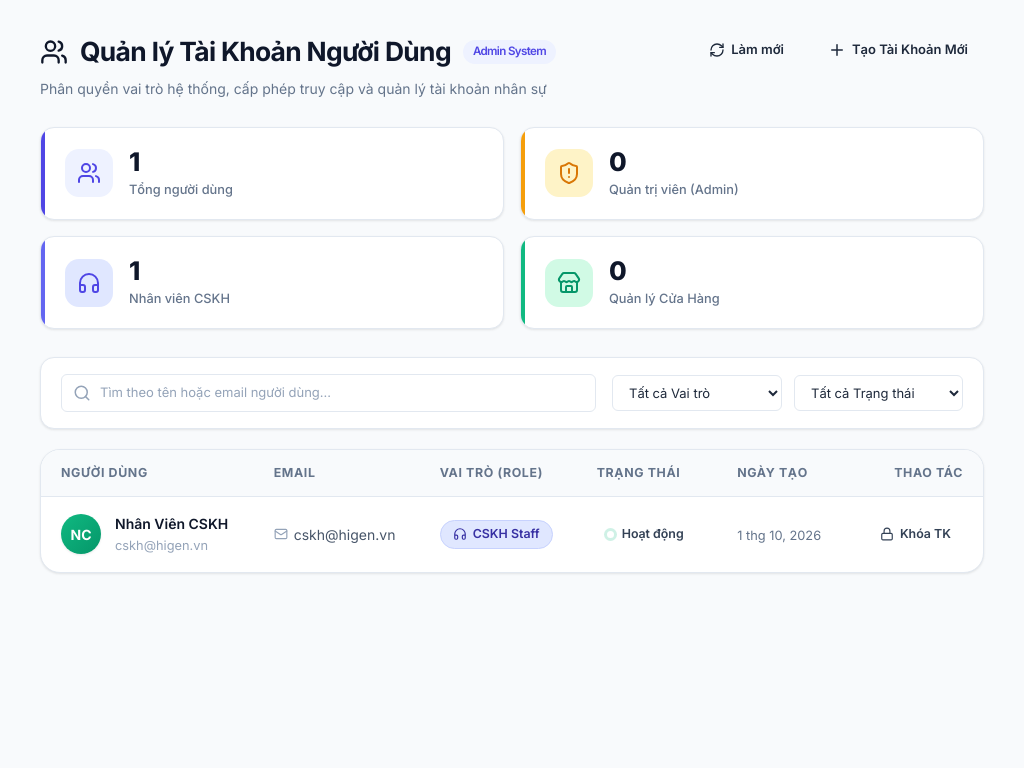
Test: Mục 1 (FE Security trên RAM) - Nhóm 1.4: Quản lý tài khoản Admin (UsersPage) › [TC-FE-SEC-11B] Tạo tài khoản nhân viên mới và Khóa tài khoản trên UsersPage
Expected: the text "Nhân Viên CSKH" is shown, [115,513,228,534]
# Act (Thực thi): Mở modal tạo mới, điền thông tin nhân viên và bấm Khóa TK đầu tiên
Click the button "Tạo Tài Khoản Mới": click(898, 50) [812,32,984,68]
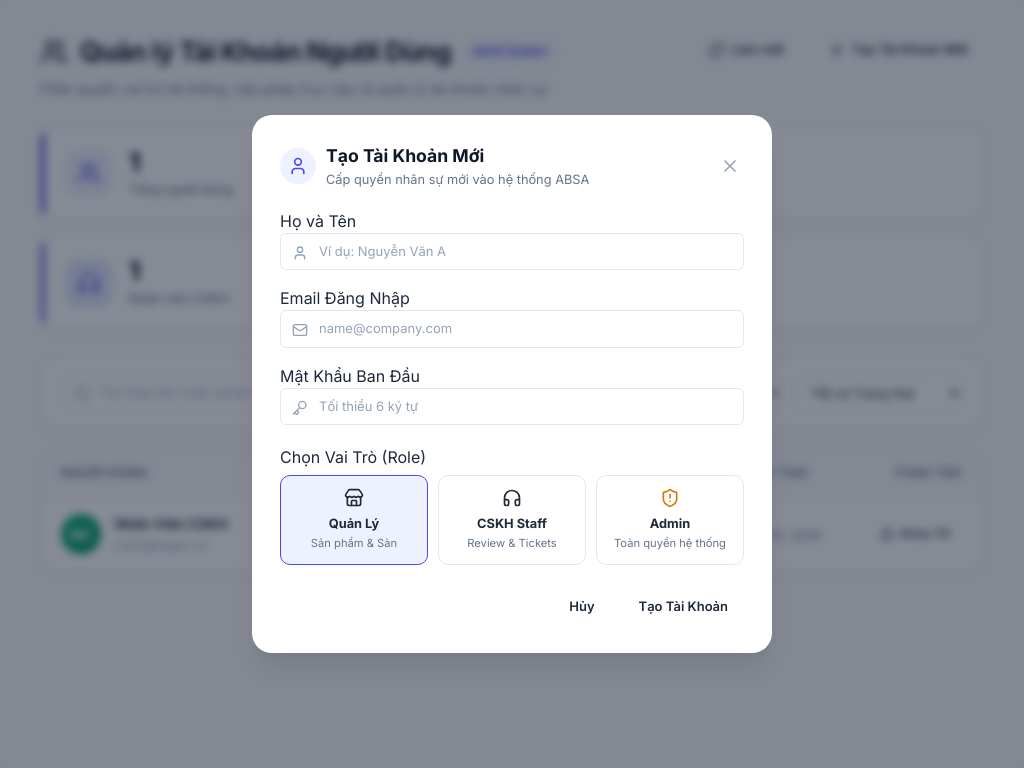
In the field with placeholder "Ví dụ: Nguyễn Văn A": (512, 252) [280,233,744,270], type "Bình Quản Lý"
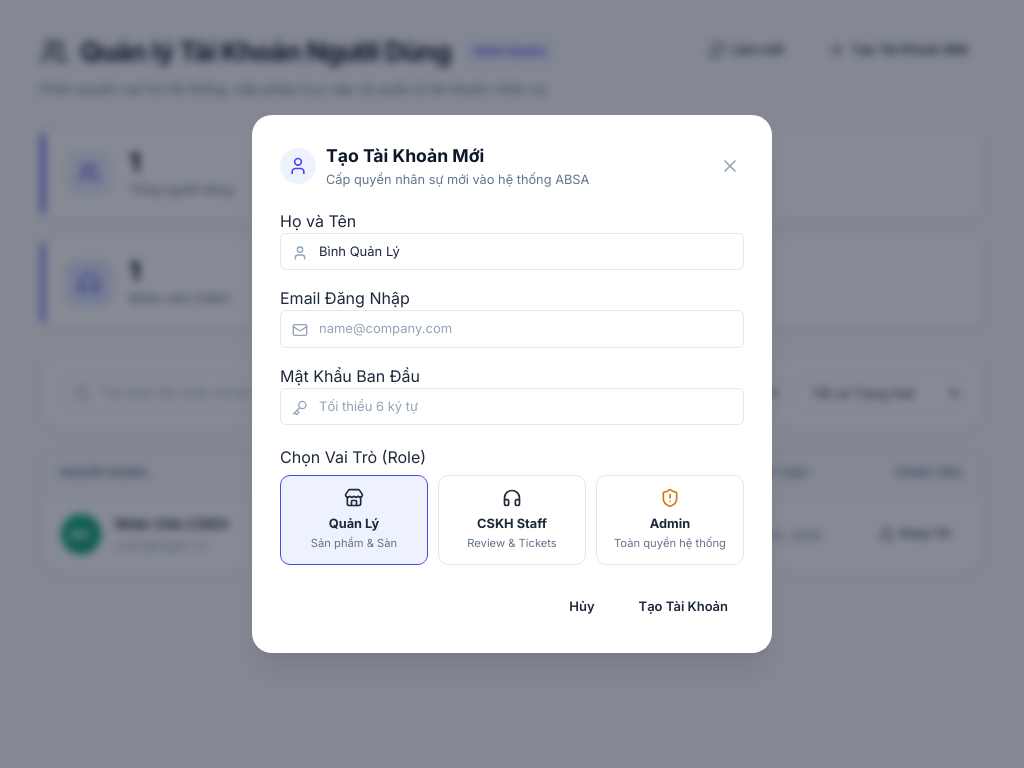
In the field with placeholder "name@company.com": (512, 329) [280,310,744,348], type "binh@higen.vn"
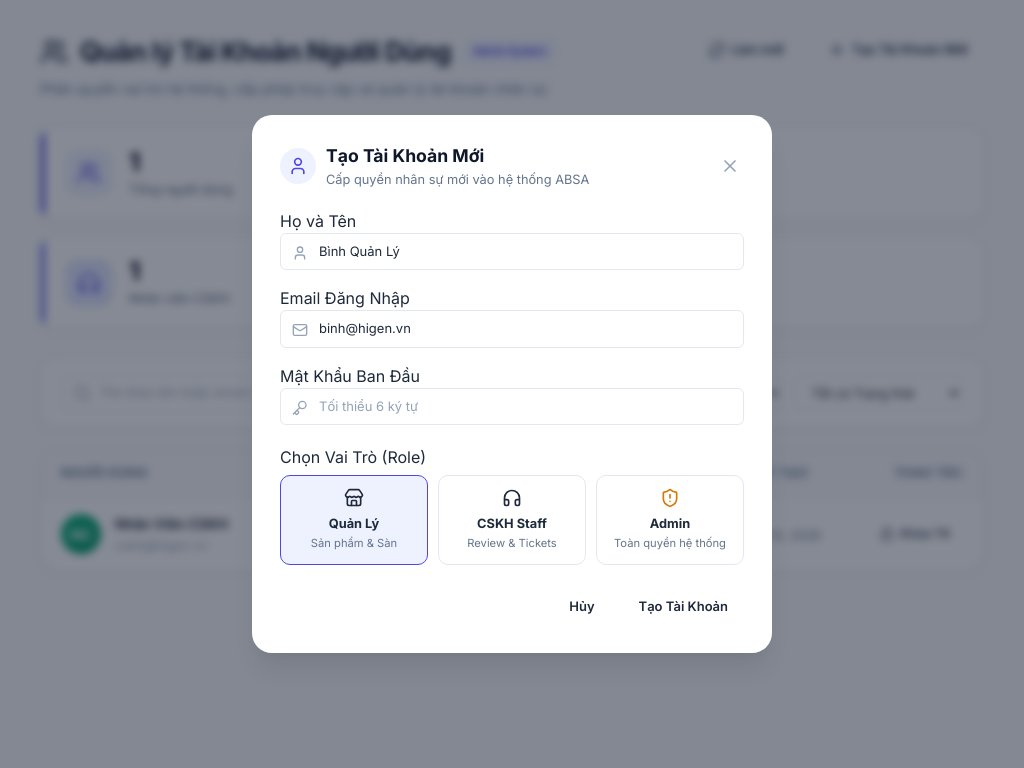
In the password field with placeholder "Tối thiểu 6 ký tự": (512, 407) [280,388,744,425], type "Secret@123"
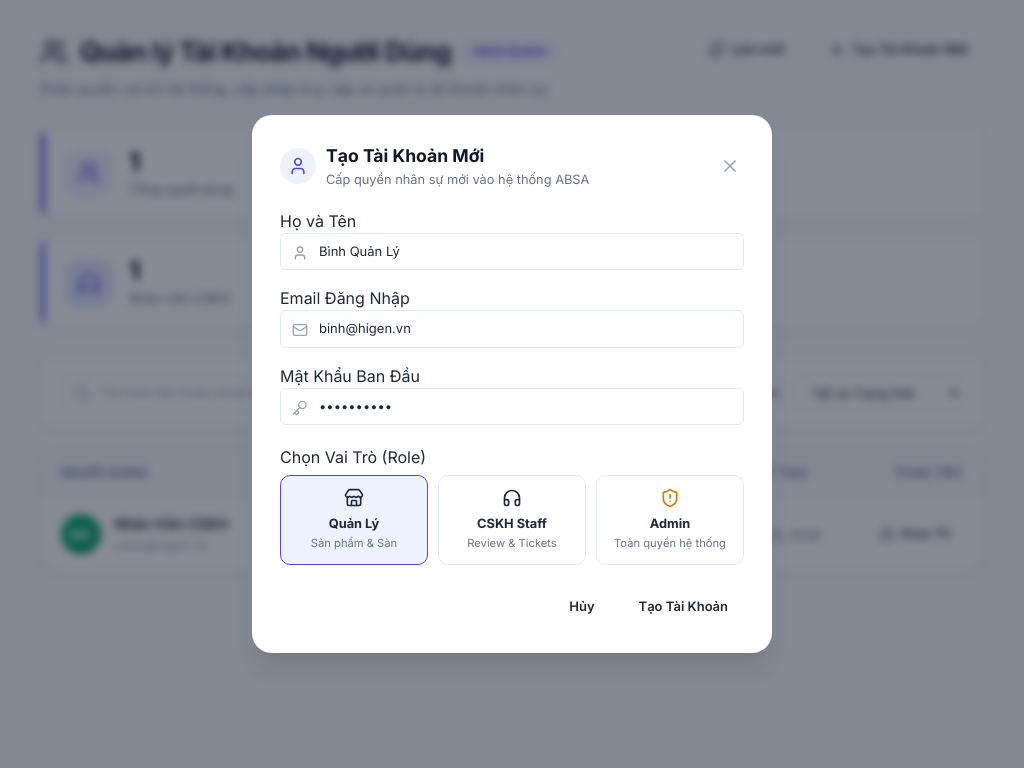
Click the button "Tạo Tài Khoản": click(683, 607) [622,589,744,625]
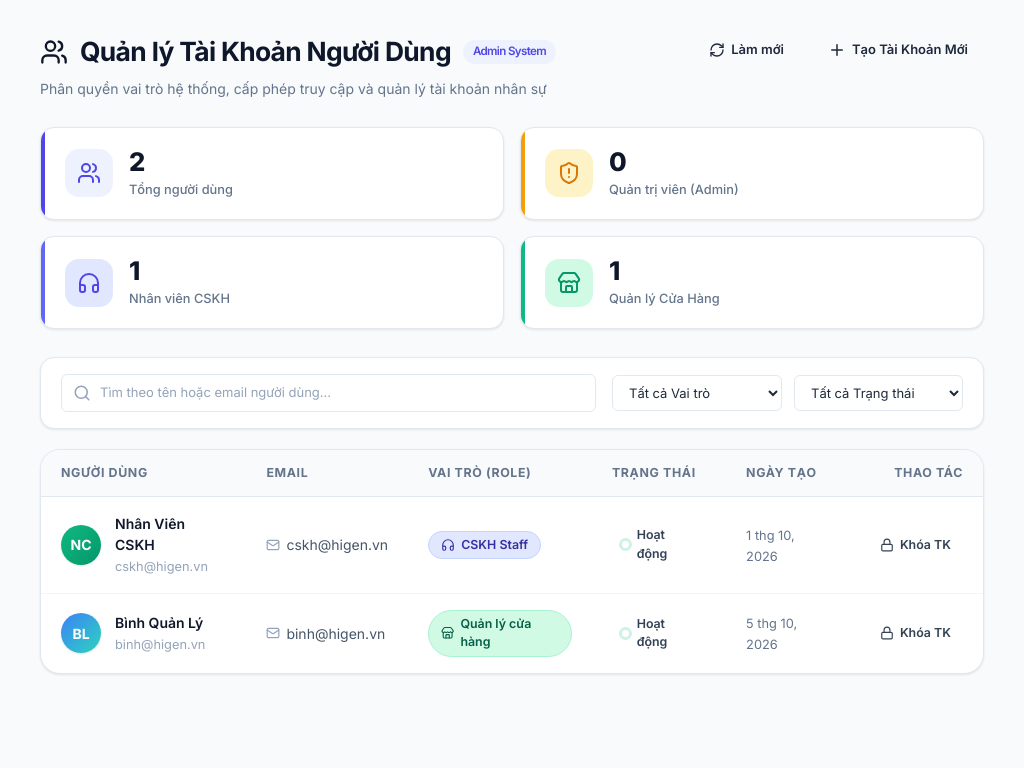
Now the text "Bình Quản Lý" is shown, box [115,612,205,633]
Click the button "Khóa TK" in the row of "NC": click(915, 545) [868,530,963,560]
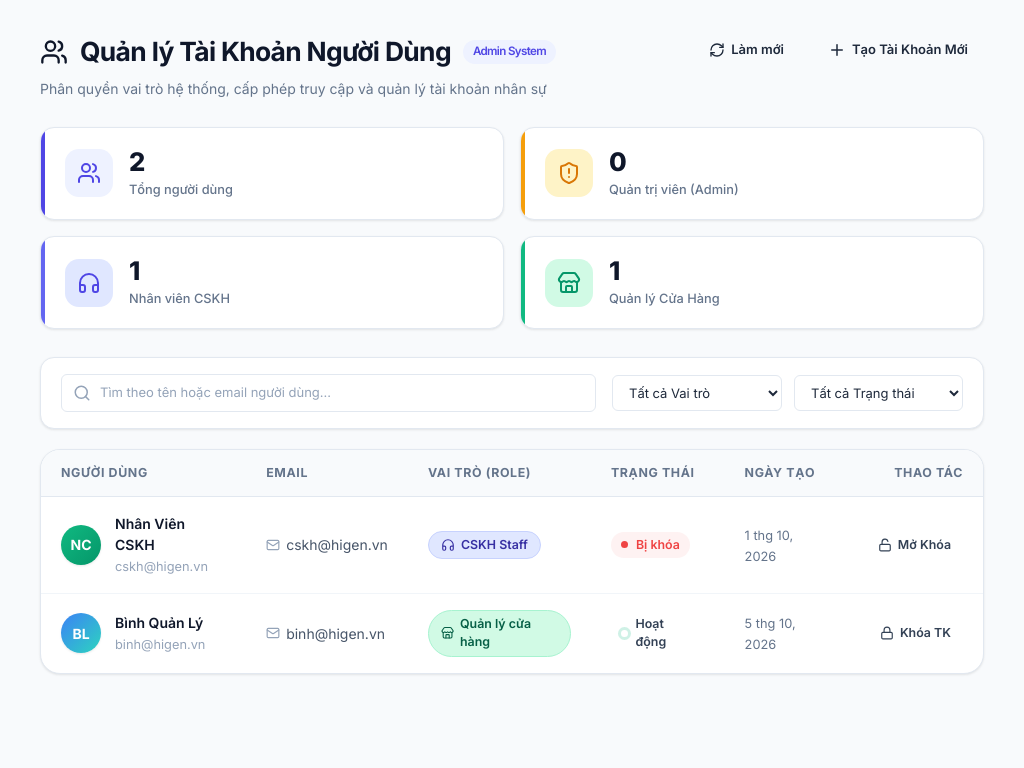
Now the text "Bị khóa" is shown, box [611,532,690,558]
